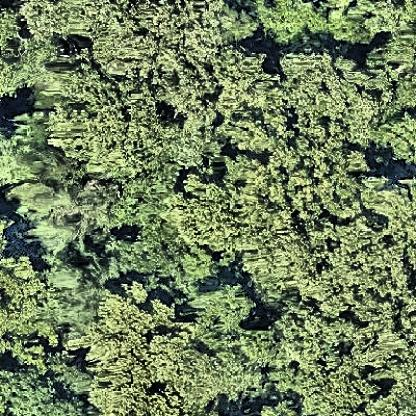tree-top: (90, 0, 213, 88), (172, 164, 283, 250), (51, 92, 165, 174), (316, 212, 404, 313), (18, 170, 114, 256), (270, 138, 371, 218), (94, 284, 178, 380), (283, 46, 370, 138), (108, 179, 172, 277), (152, 336, 221, 411), (240, 231, 315, 299), (183, 278, 258, 341), (216, 79, 279, 154), (291, 361, 376, 416), (0, 245, 50, 337), (313, 0, 412, 44), (212, 44, 270, 116), (366, 178, 416, 259), (157, 109, 221, 171), (48, 252, 100, 328), (0, 364, 75, 416), (0, 115, 46, 188), (254, 0, 326, 46), (376, 82, 416, 162), (222, 110, 285, 157), (374, 29, 415, 74), (1, 0, 24, 60), (243, 398, 311, 416), (1, 198, 18, 266)
